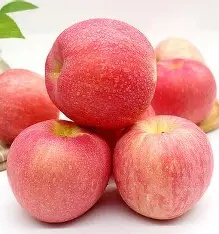ripe_apple: (44, 16, 157, 129), (43, 16, 157, 128), (6, 117, 111, 223), (6, 118, 110, 223), (112, 115, 214, 219), (153, 57, 217, 128), (1, 68, 60, 144)
